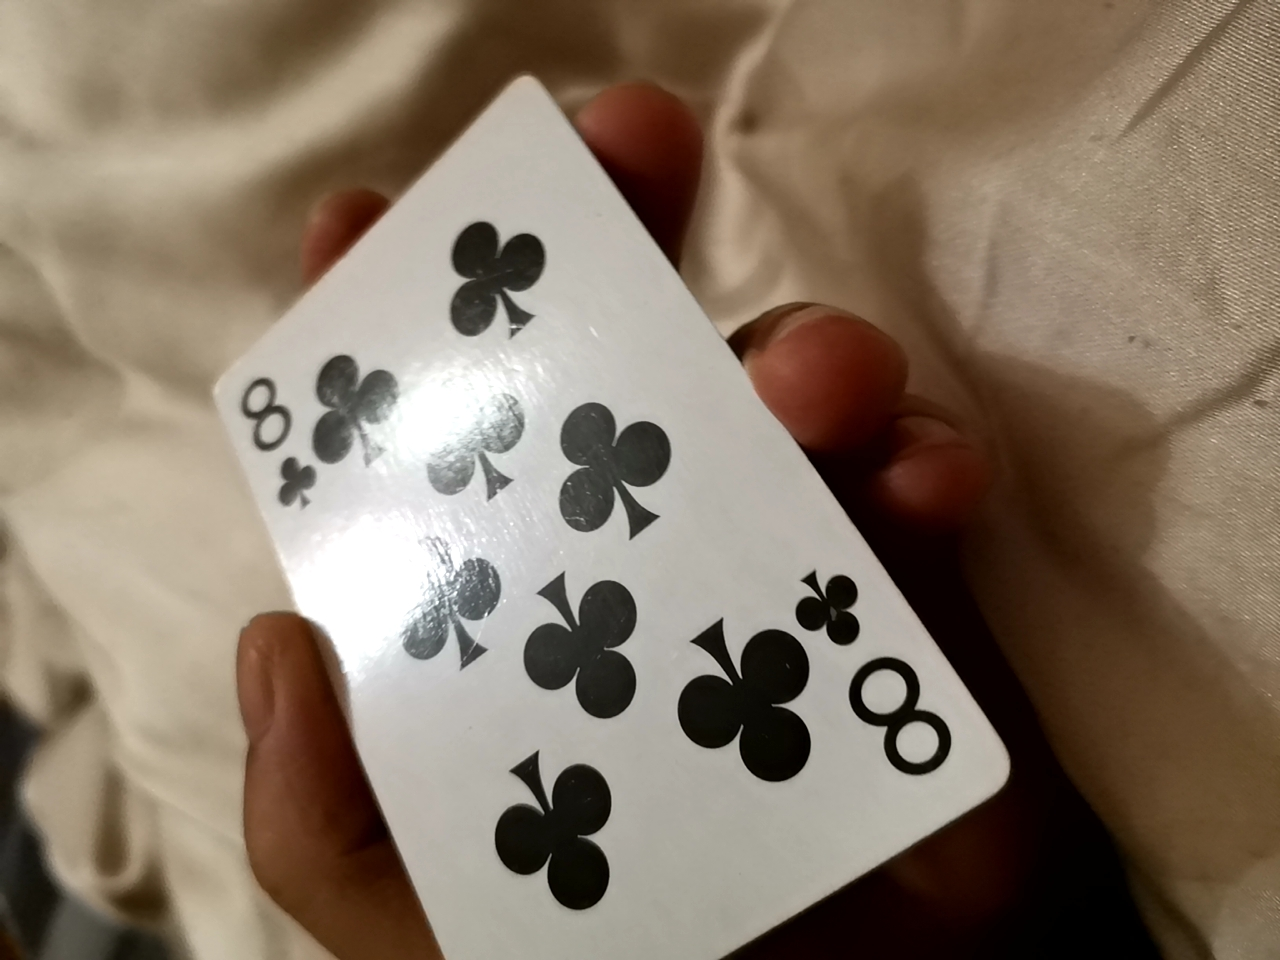mh 8: (233, 79, 1018, 960)
